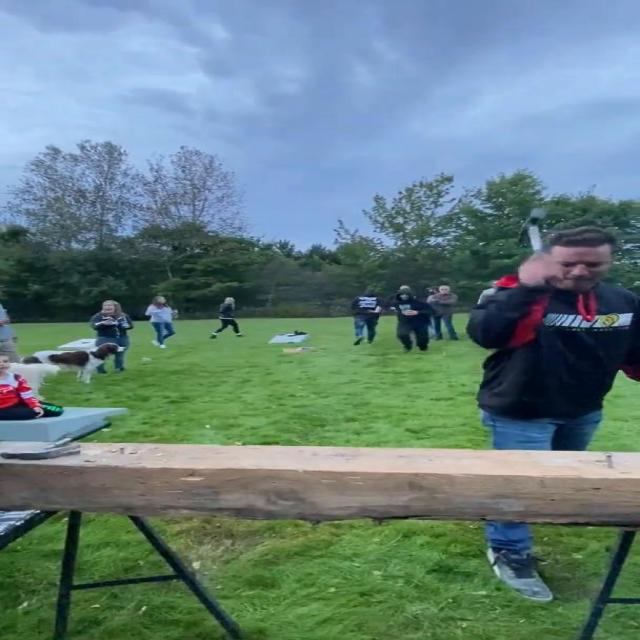hammer: (0, 420, 112, 460)
